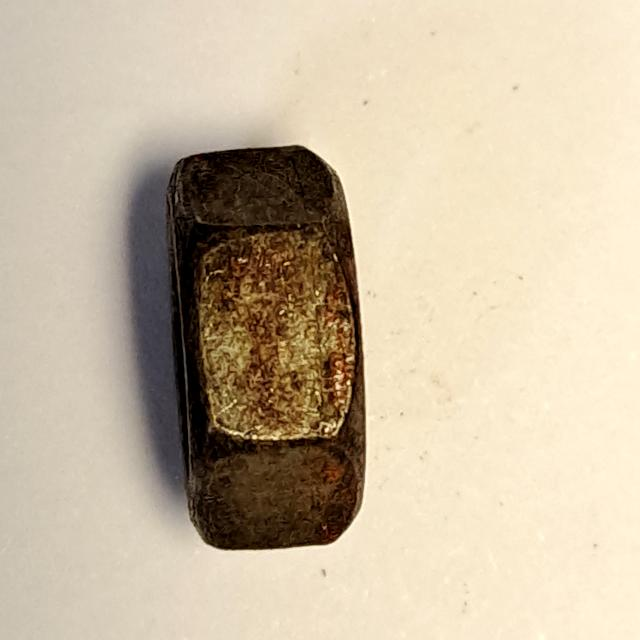Side_Rust: (147, 130, 382, 567)
